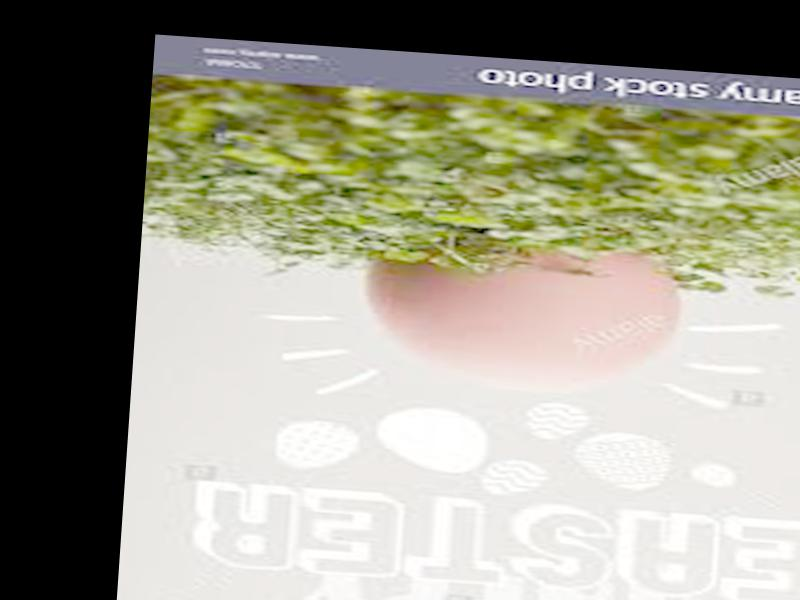Eggs: (353, 233, 678, 398)
